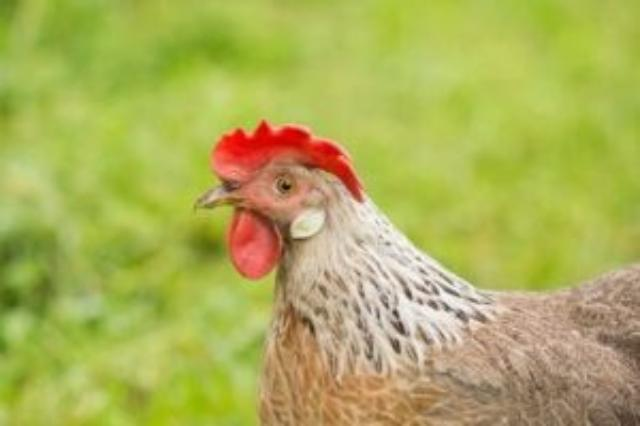Chicken: (192, 119, 640, 426)
